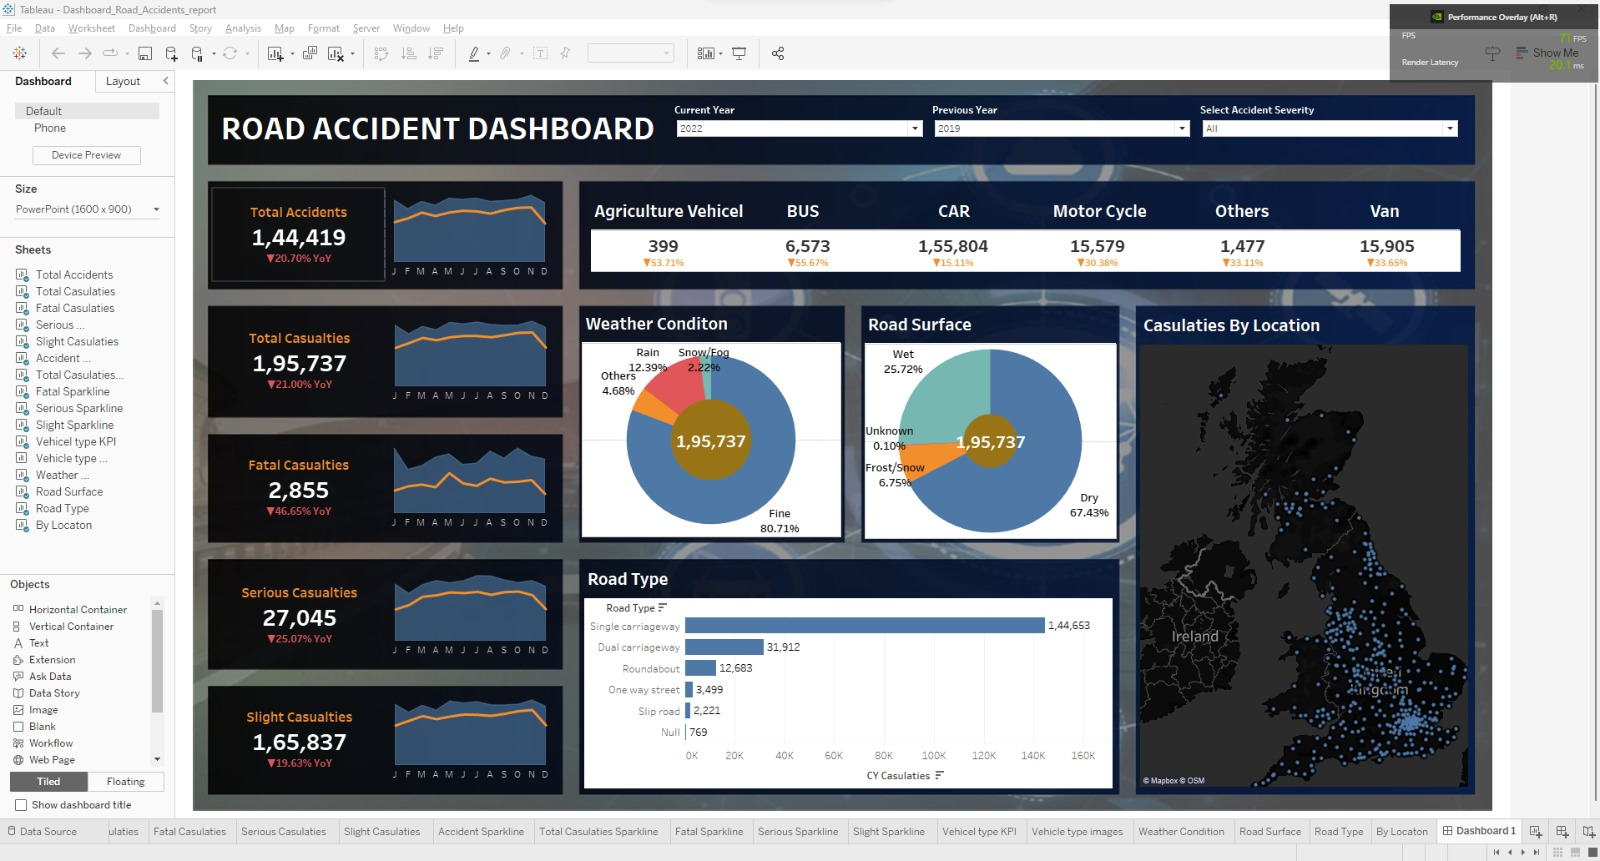

The dashboard page shown, as its layout file describes it:
{"tool":"tableau","page":{"name":"Dashboard 1","canvas":[1600,900],"ordinal":0},"visuals":[{"type":"image","param":"C:/Users/user/OneDrive/Desktop/Tarun_tablaue_report/Background.jpg","box":[8,8,1584,884]},{"type":"parameter","param":"[Parameters].[Parameter 1]","box":[594,35,309,73]},{"type":"parameter","param":"[Parameters].[Current Year (copy)_266838326540427265]","box":[903,35,320.5,73]},{"type":"parameter","param":"[Parameters].[Parameter 2]","box":[1223.5,35,320.5,73]},{"type":"text","box":[52,43,526,50]},{"type":"worksheet","title":"Total Accidents","mark":"Automatic","box":[45,142,205,110]},{"type":"worksheet","title":"Accident Sparkline","mark":"Automatic","rows":["CY Accidents (copy)_266838326541688835","Calculation_266838326540640258"],"cols":["Accident Date"],"box":[250,142,205,110]},{"type":"worksheet","title":"Vehicel type KPI","mark":"Automatic","box":[494,146,1050,100]},{"type":"worksheet","title":"Weather Condition","mark":"Pie","rows":["Calculation_1548956845501218819","Calculation_1548956845501247493"],"box":[487,285,311,275]},{"type":"worksheet","title":"Road Surface","mark":"Pie","rows":["Calculation_1548956845501218819","Calculation_1548956845501247493"],"box":[826,286,302,276]},{"type":"worksheet","title":"By Locaton","mark":"Automatic","rows":["Latitude"],"cols":["Longitude"],"box":[1156,287,393,572]},{"type":"worksheet","title":"Total Casulaties","mark":"Automatic","box":[46,293,205,110]},{"type":"worksheet","title":"Total Casulaties Sparkline","mark":"Automatic","rows":["CY Casulaties (copy)_266838326548443142","Calculation_266838326547464197"],"cols":["Accident Date"],"box":[251,293,205,110]},{"type":"worksheet","title":"Fatal Casulaties","mark":"Automatic","box":[45,445,205,110]},{"type":"worksheet","title":"Fatal Sparkline","mark":"Automatic","rows":["CY Fatal Casulaties (copy)_266838326551146506","Calculation_266838326560698387"],"cols":["Accident Date"],"box":[250,445,205,110]},{"type":"worksheet","title":"Road Type","mark":"Automatic","rows":["Road_Type"],"cols":["Calculation_266838326547464197"],"box":[490,591,633,270]},{"type":"worksheet","title":"Serious Casulaties ","mark":"Automatic","box":[46,598,205,110]},{"type":"worksheet","title":"Serious Sparkline","mark":"Automatic","rows":["CY Serious Casulaties  (copy)_266838326552502284","CY Fatal Casulaties (copy)_266838326551846923"],"cols":["Accident Date"],"box":[251,598,205,110]},{"type":"worksheet","title":"Slight Casulaties ","mark":"Automatic","box":[46,747,205,110]},{"type":"worksheet","title":"Slight Sparkline ","mark":"Automatic","rows":["CY Slight Casulaties (copy)_266838326553346062","Calculation_266838326549893128"],"cols":["Accident Date"],"box":[251,747,205,110]}]}

Visuals, with their boxes on the page's 1600x900 design canvas (x1, y1, x2, y2). These are canvas units, not pixel positions in the 1600x861 screenshot, which may show the page scaled, cropped or inside an application window:
image: 8, 8, 1592, 892
parameter: 594, 35, 903, 108
parameter: 903, 35, 1224, 108
parameter: 1224, 35, 1544, 108
text: 52, 43, 578, 93
"Total Accidents" worksheet: 45, 142, 250, 252
"Accident Sparkline" worksheet: 250, 142, 455, 252
"Vehicel type KPI" worksheet: 494, 146, 1544, 246
"Weather Condition" worksheet (Pie marks): 487, 285, 798, 560
"Road Surface" worksheet (Pie marks): 826, 286, 1128, 562
"By Locaton" worksheet: 1156, 287, 1549, 859
"Total Casulaties" worksheet: 46, 293, 251, 403
"Total Casulaties Sparkline" worksheet: 251, 293, 456, 403
"Fatal Casulaties" worksheet: 45, 445, 250, 555
"Fatal Sparkline" worksheet: 250, 445, 455, 555
"Road Type" worksheet: 490, 591, 1123, 861
"Serious Casulaties " worksheet: 46, 598, 251, 708
"Serious Sparkline" worksheet: 251, 598, 456, 708
"Slight Casulaties " worksheet: 46, 747, 251, 857
"Slight Sparkline " worksheet: 251, 747, 456, 857
